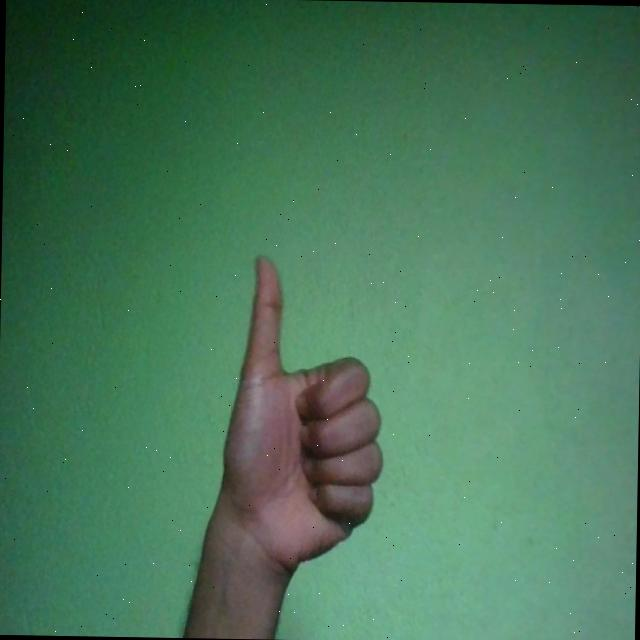Good Job: (218, 250, 387, 580)
